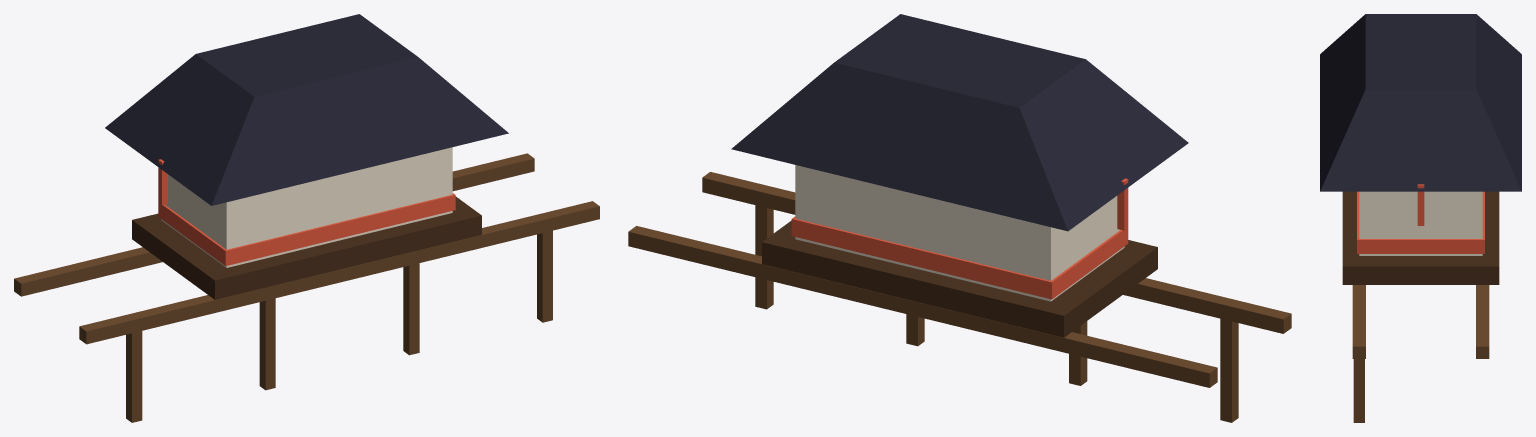
File: prop_sangyeo.obj
3 renders of one model, left to right at view 1: azimuth 30°, elevation 25°; view 2: azimuth 150°, elevation 25°; view 3: azimuth 270°, elevation 25°, orthographic. The views are drawn at different scales.
Parts seen in each view (by area): view 1: prop_sangyeo_0_4, prop_sangyeo_0_0, prop_sangyeo_0_2, prop_sangyeo_0_1, prop_sangyeo_0_3; view 2: prop_sangyeo_0_4, prop_sangyeo_0_0, prop_sangyeo_0_2, prop_sangyeo_0_1, prop_sangyeo_0_3; view 3: prop_sangyeo_0_4, prop_sangyeo_0_1, prop_sangyeo_0_2, prop_sangyeo_0_0, prop_sangyeo_0_3.
Part boxes in pixels (x1=…): prop_sangyeo_0_4: x1=105, y1=14, x2=508, y2=205; prop_sangyeo_0_0: x1=14, y1=153, x2=599, y2=422; prop_sangyeo_0_2: x1=161, y1=147, x2=452, y2=267; prop_sangyeo_0_1: x1=132, y1=196, x2=481, y2=299; prop_sangyeo_0_3: x1=158, y1=159, x2=455, y2=265; prop_sangyeo_0_4: x1=731, y1=14, x2=1188, y2=231; prop_sangyeo_0_0: x1=628, y1=172, x2=1291, y2=422; prop_sangyeo_0_2: x1=795, y1=165, x2=1124, y2=301; prop_sangyeo_0_1: x1=762, y1=220, x2=1157, y2=337; prop_sangyeo_0_3: x1=791, y1=178, x2=1128, y2=299; prop_sangyeo_0_4: x1=1320, y1=14, x2=1521, y2=191; prop_sangyeo_0_1: x1=1342, y1=191, x2=1499, y2=284; prop_sangyeo_0_2: x1=1359, y1=191, x2=1482, y2=255; prop_sangyeo_0_0: x1=1352, y1=285, x2=1489, y2=422; prop_sangyeo_0_3: x1=1357, y1=184, x2=1484, y2=253.
Size of the model in its own units: 5 by 2.7 by 1.8.
